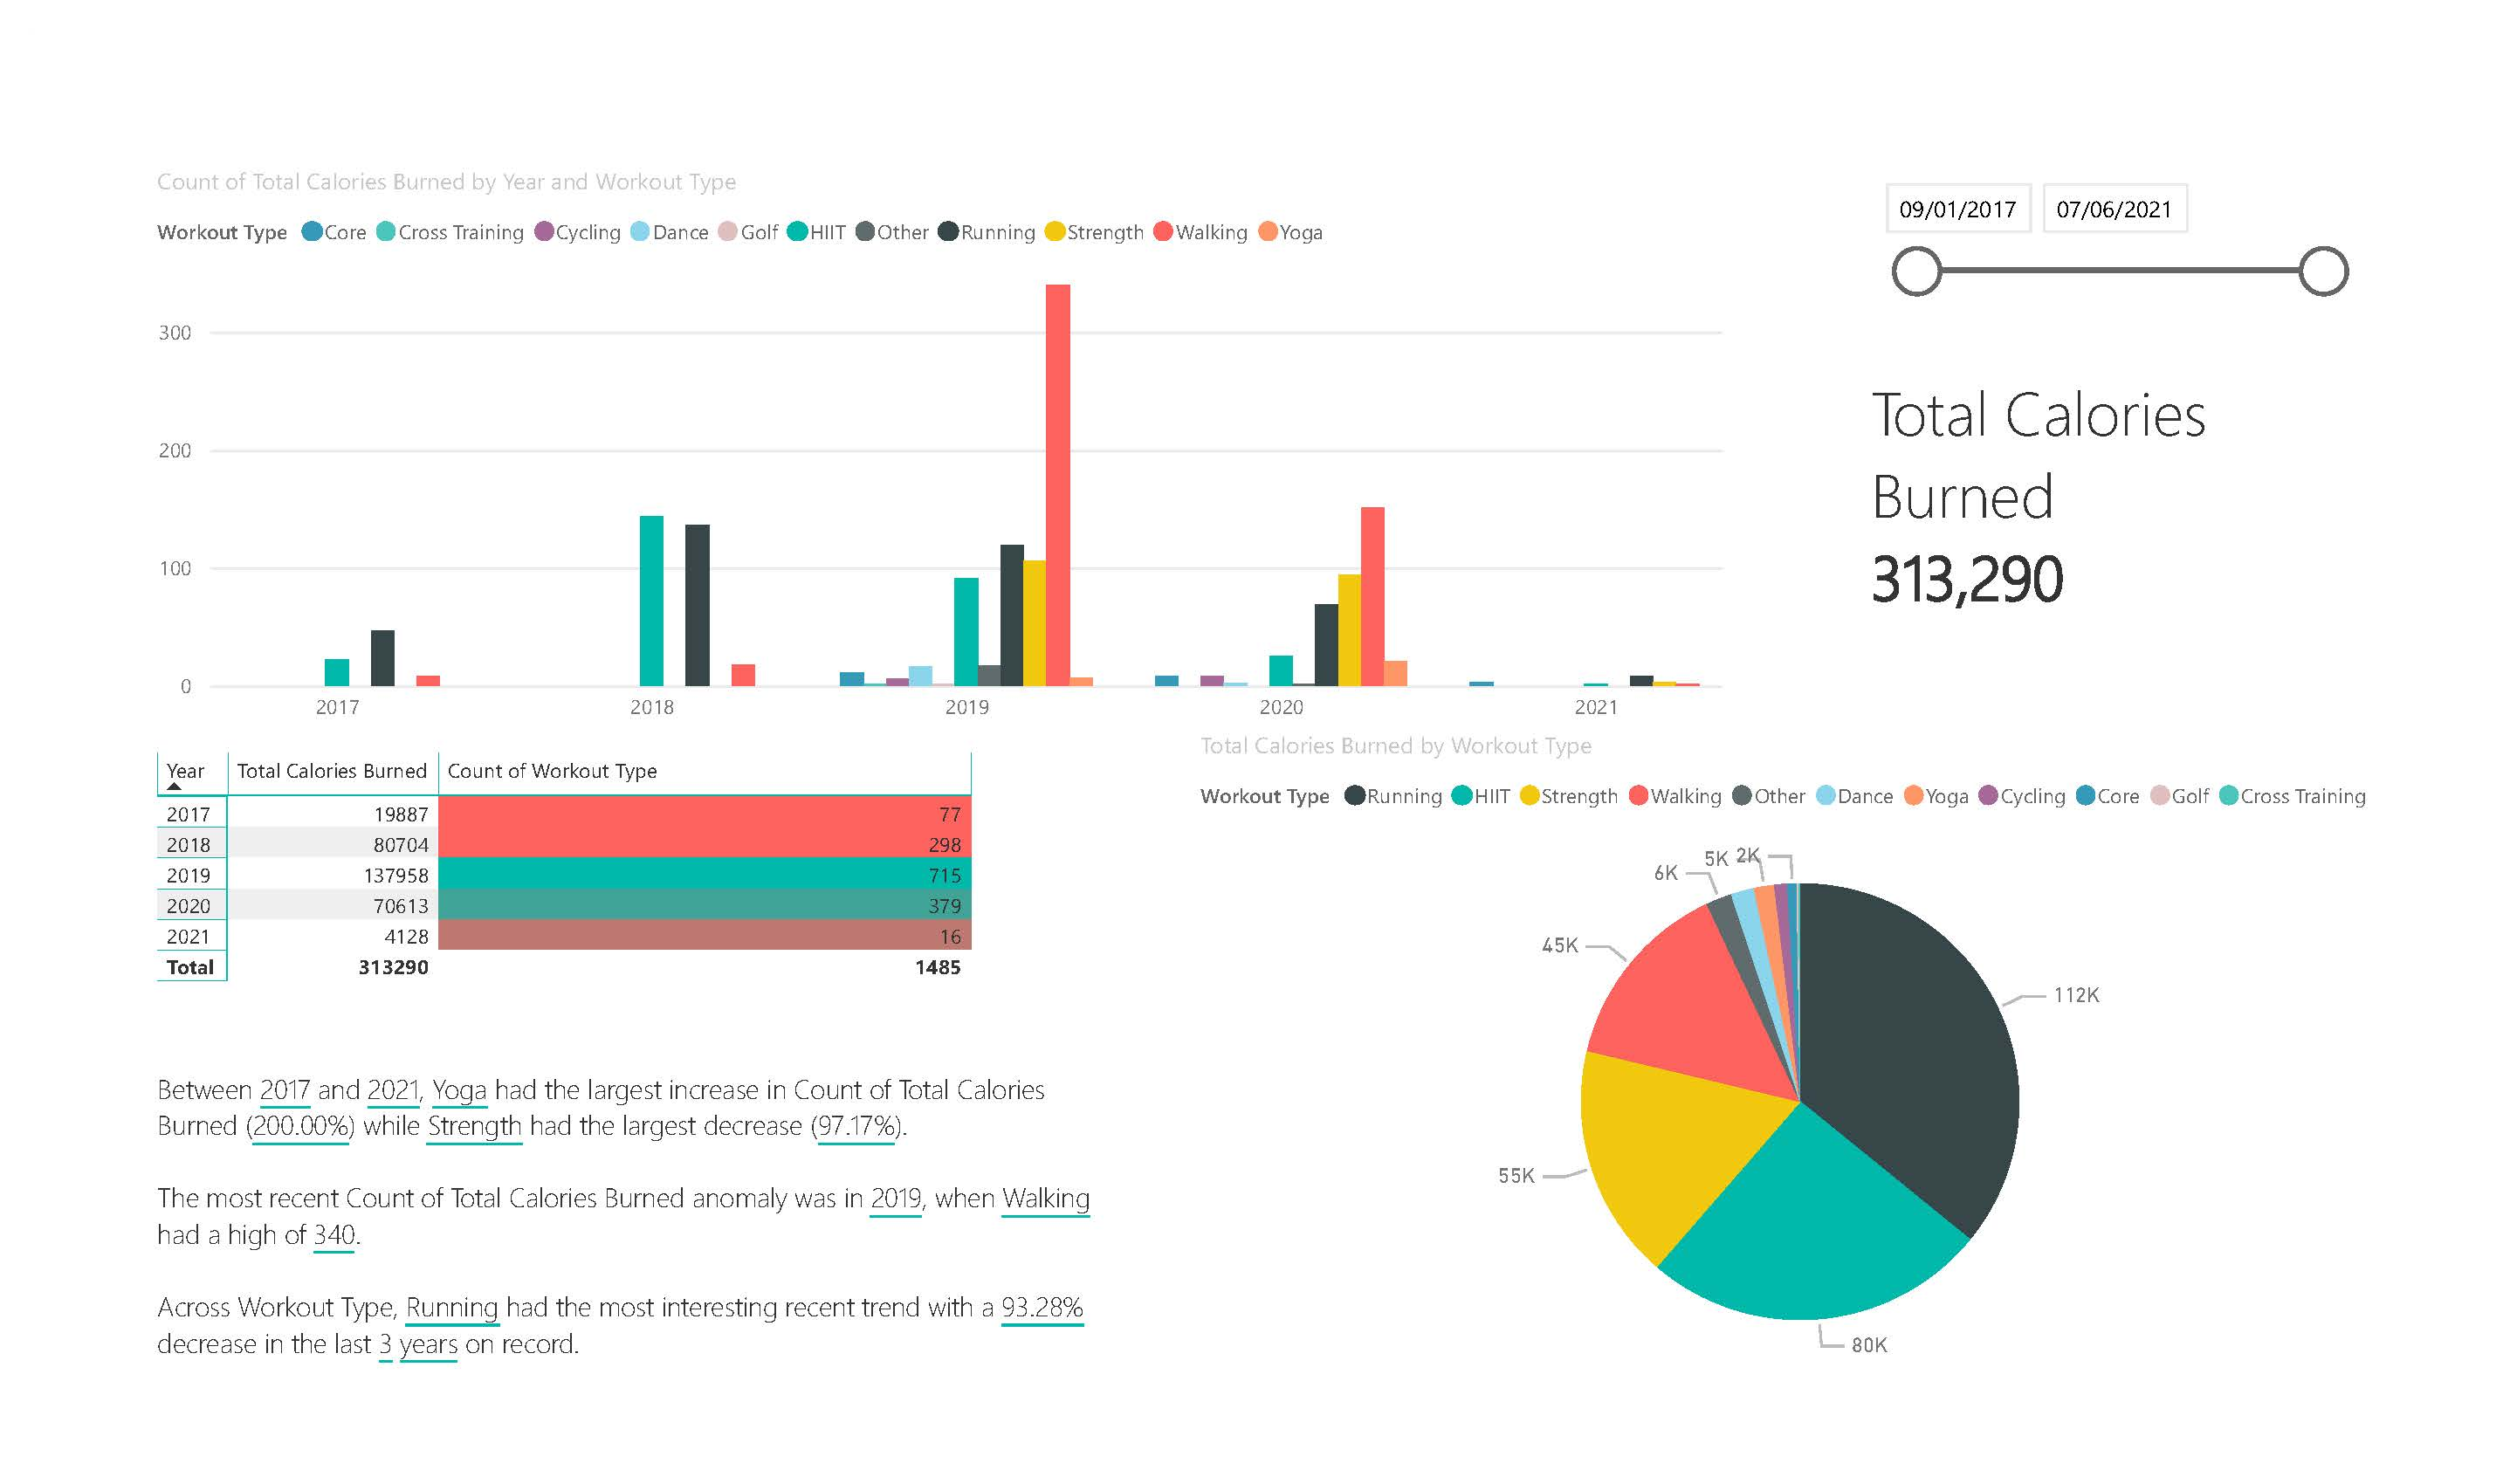

The dashboard page shown, as its layout file describes it:
{"tool":"powerbi","page":{"name":"Calories Burned","canvas":[1280,720],"ordinal":0},"visuals":[{"type":"clusteredColumnChart","fields":{"Category":["[email redacted] Hierarchy.Year","[email redacted] Hierarchy.Quarter","[email redacted] Hierarchy.Month","[email redacted] Hierarchy.Day"],"Series":["workoutData.Workout Type"],"Y":["workoutData.Total Calories Burned"]},"box":[62.8,57.8,829.1,302.2],"z":0},{"type":"slicer","fields":{"Values":["workoutData.@creationDate"]},"box":[959.6,57.8,262.6,74.3],"z":1000},{"type":"pivotTable","fields":{"Rows":["[email redacted] Hierarchy.Year","[email redacted] Hierarchy.Month","[email redacted] Hierarchy.Day"],"Values":["workoutData.@totalEnergyBurned","workoutData.@workoutActivityType"]},"box":[62.8,360.1,521.9,166.8],"z":2000},{"type":"pieChart","fields":{"Category":["workoutData.Workout Type"],"Y":["workoutData.Total Calories Burned"]},"box":[607.8,353.4,637.5,348.5],"z":3000},{"type":"textbox","box":[959.6,160.2,285.7,150.3],"z":4000},{"type":"textbox","box":[62.8,526.9,521.9,175.1],"z":4001}]}

Visuals, with their boxes on the page's 1280x720 design canvas (x1, y1, x2, y2). These are canvas units, not pixel positions in the 2503x1484 screenshot, which may show the page scaled, cropped or inside an application window:
clusteredColumnChart - [email redacted] Hierarchy.Year x [email redacted] Hierarchy.Quarter: [left=63, top=58, right=892, bottom=360]
slicer - workoutData.@creationDate: [left=960, top=58, right=1222, bottom=132]
pivotTable - [email redacted] Hierarchy.Year x [email redacted] Hierarchy.Month: [left=63, top=360, right=585, bottom=527]
pieChart - workoutData.Workout Type x workoutData.Total Calories Burned: [left=608, top=353, right=1245, bottom=702]
textbox: [left=960, top=160, right=1245, bottom=310]
textbox: [left=63, top=527, right=585, bottom=702]
